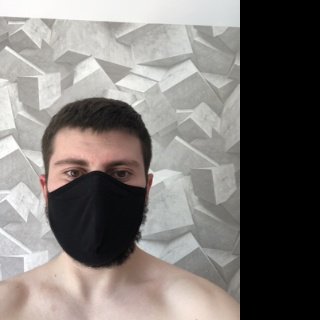with_mask: (47, 148, 146, 268)
